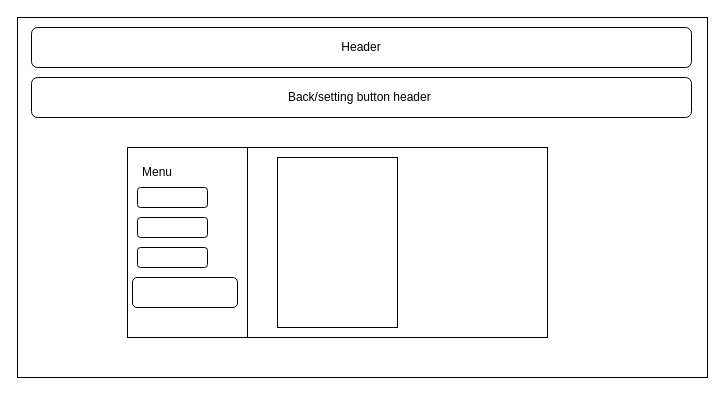
The diagram is 725 pixels wide and 395 high, and some of its shapes have lost their labels. The centre of each missing label's shape, as x and y in pixels:
Player content: [337,242]
Portrait/Landscape mode: [185,292]
